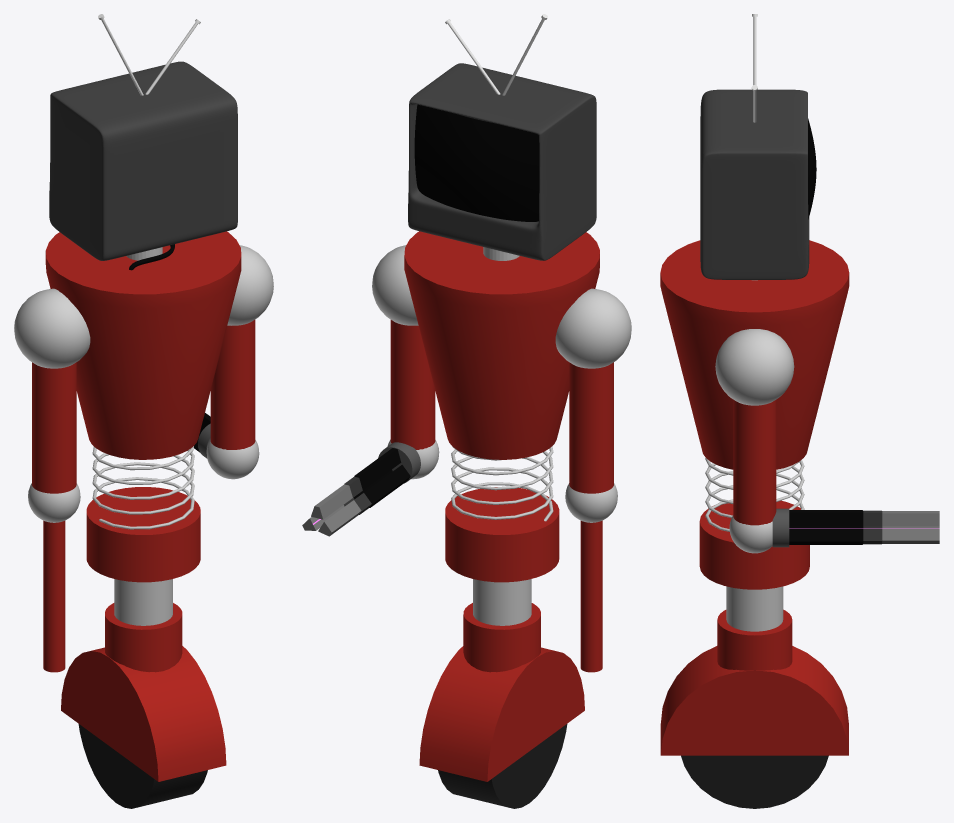
File: CharacterRig_LaserGun 1.fbx
3 renders of one model, left to right at view 1: azimuth 30°, elevation 25°; view 2: azimuth 150°, elevation 25°; view 3: azimuth 270°, elevation 25°, orthographic. The views are drawn at different scales.
Visible parts, largest first — view 1: TV (gehäuse).001, Chest.001, Cylinder, Unterkörper.001, Arm (Left).001, Arm (Right).001, Shoulder (Left).001, Wheel.001, Unterkörper.003, Unterarm (Left).001, Spiral.001, Unterkörper.002 (+3 smaller); view 2: Chest.001, TV (gehäuse).001, Cylinder, TV-Screen, Unterkörper.001, Arm (Left).001, Arm (Right).001, Shoulder (Left).001, Wheel.001, Cube, Unterkörper.003, Unterarm (Left).001 (+5 smaller); view 3: Chest.001, TV (gehäuse).001, Cylinder, Wheel.001, Unterkörper.001, Arm (Right).001, Cube, Shoulder (Right).001, Unterkörper.003, Unterkörper.002, Spiral.001, Ellebogen (Right).001 (+2 smaller).
Part boxes in pixels (left/top/right/bottom): TV (gehäuse).001: left=49, top=61, right=237, bottom=260; Chest.001: left=45, top=231, right=241, bottom=459; Cylinder: left=61, top=646, right=226, bottom=781; Unterkörper.001: left=86, top=487, right=200, bottom=582; Arm (Left).001: left=32, top=362, right=76, bottom=493; Arm (Right).001: left=210, top=320, right=255, bottom=449; Shoulder (Left).001: left=14, top=288, right=90, bottom=368; Wheel.001: left=78, top=724, right=207, bottom=808; Unterkörper.003: left=105, top=603, right=182, bottom=672; Unterarm (Left).001: left=43, top=520, right=65, bottom=672; Spiral.001: left=92, top=446, right=194, bottom=529; Unterkörper.002: left=114, top=579, right=172, bottom=625; Chest.001: left=404, top=231, right=599, bottom=459; TV (gehäuse).001: left=408, top=63, right=596, bottom=260; Cylinder: left=419, top=646, right=584, bottom=781; TV-Screen: left=414, top=104, right=539, bottom=221; Unterkörper.001: left=445, top=487, right=559, bottom=582; Arm (Left).001: left=569, top=362, right=613, bottom=493; Arm (Right).001: left=390, top=320, right=435, bottom=449; Shoulder (Left).001: left=555, top=288, right=631, bottom=368; Wheel.001: left=438, top=724, right=567, bottom=808; Cube: left=302, top=448, right=410, bottom=536; Unterkörper.003: left=463, top=603, right=540, bottom=672; Unterarm (Left).001: left=580, top=520, right=602, bottom=672; Chest.001: left=660, top=240, right=849, bottom=469; TV (gehäuse).001: left=700, top=89, right=809, bottom=279; Cylinder: left=660, top=646, right=848, bottom=755; Wheel.001: left=681, top=755, right=828, bottom=808; Unterkörper.001: left=699, top=500, right=809, bottom=589; Arm (Right).001: left=733, top=399, right=776, bottom=525; Cube: left=789, top=510, right=939, bottom=544; Shoulder (Right).001: left=715, top=329, right=794, bottom=405; Unterkörper.003: left=717, top=609, right=792, bottom=670; Unterkörper.002: left=726, top=586, right=783, bottom=631; Spiral.001: left=705, top=458, right=804, bottom=531; Ellebogen (Right).001: left=729, top=515, right=772, bottom=553.
Bounding box in the file's own units: 77.83 × 237 × 78.45.
